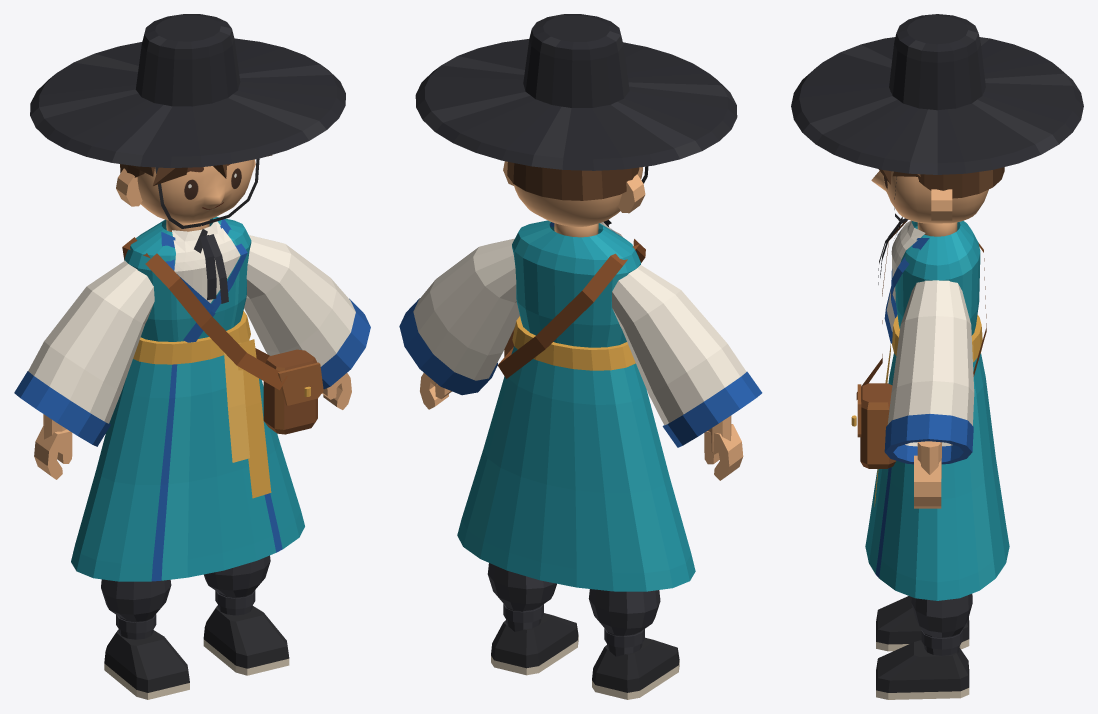
Rendered from Cheon_Player_Verify.fbx.
3 renders of one model, left to right at view 1: azimuth 30°, elevation 25°; view 2: azimuth 150°, elevation 25°; view 3: azimuth 270°, elevation 25°, orthographic.
Visible parts, largest first — view 1: Cheon_Player; view 2: Cheon_Player; view 3: Cheon_Player.
Part boxes in pixels (x1,y1,x2,y2): Cheon_Player: (14,14,370,699); Cheon_Player: (399,14,762,699); Cheon_Player: (791,14,1083,699).
Size of the model in its own units: 130 by 227 by 95.4.
1 material, 1 textured.
